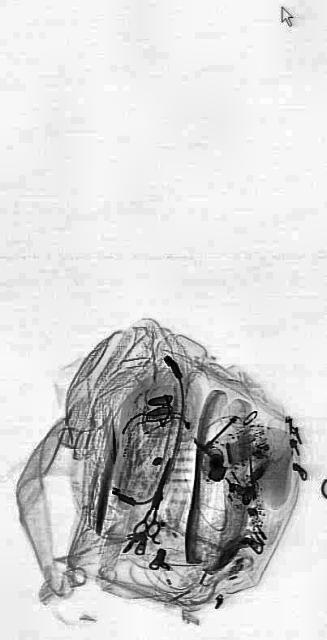Scissors: (130, 447, 178, 553)
